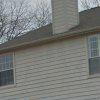Chimney: (46, 1, 82, 33)
